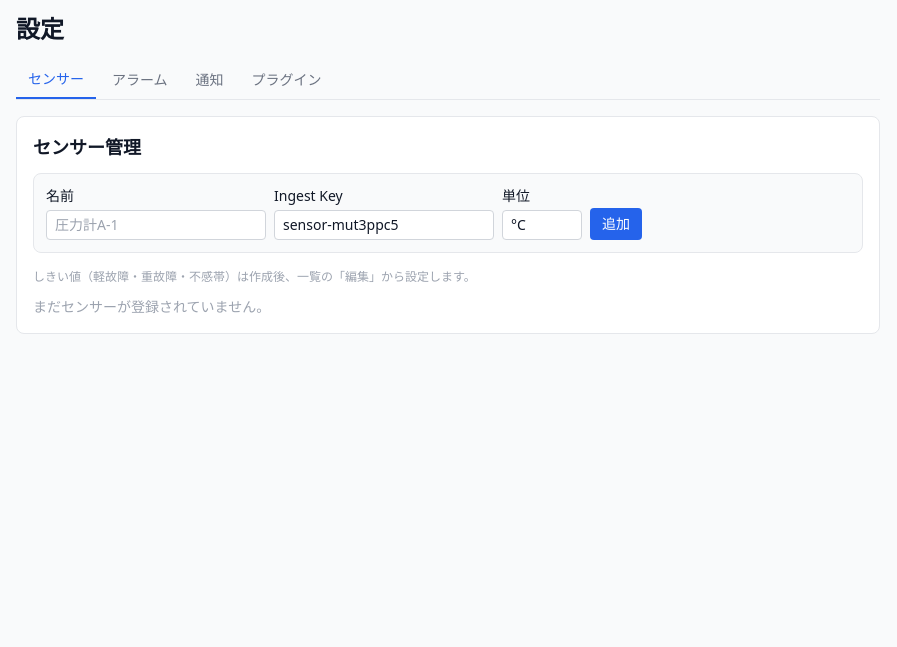
it: SettingsPage › 通知タブに切り替えられる
Click the button "通知": (210, 80) [184,61,236,99]
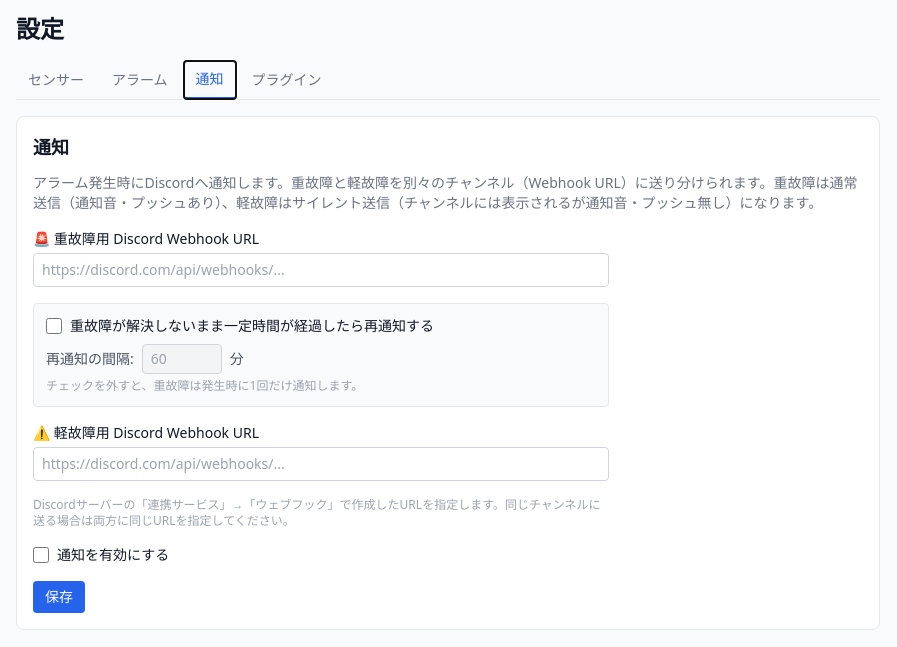
Expected: the heading "通知" is shown, [33,135,69,159]
